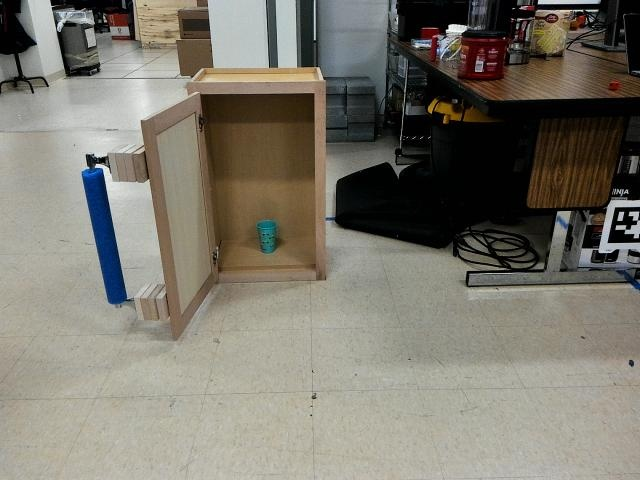coffee_cup: (255, 217, 280, 255)
noodle_handle: (78, 161, 133, 307)
